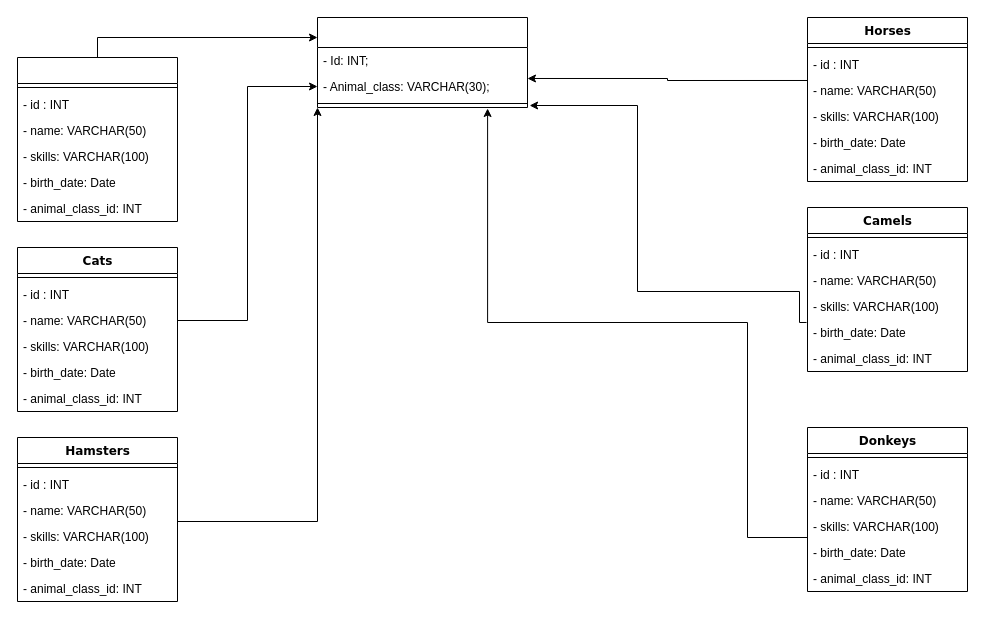
Image size: 985x622. Some labels were removed from this diagram. The box of each missing label's shape, as (x1, y1, x2, y2) in pixels:
Animals: (316, 16, 528, 108)
Dogs: (16, 56, 178, 222)
